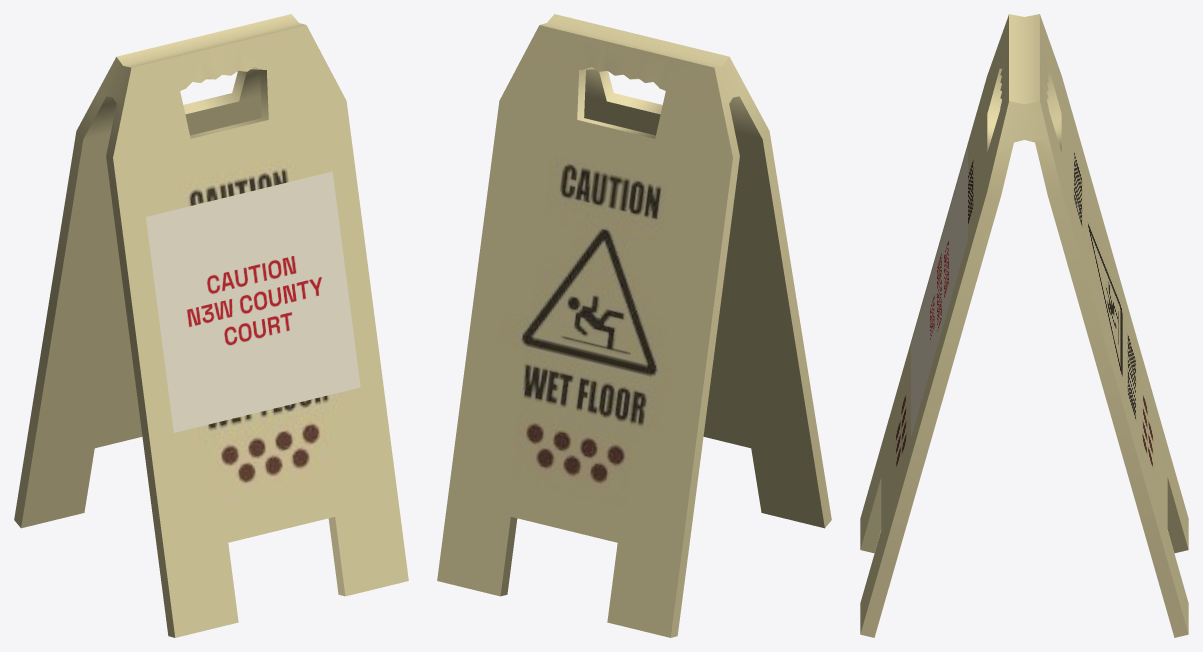
The model's file is nyb_angrymen_wetfloor.glb.
3 renders of one model, left to right at view 1: azimuth 30°, elevation 25°; view 2: azimuth 150°, elevation 25°; view 3: azimuth 270°, elevation 25°, orthographic.
Visible parts, largest first — view 1: WetFloorSign_01, stk_lbl_762fa31d37.png; view 2: WetFloorSign_01; view 3: WetFloorSign_01, stk_lbl_762fa31d37.png.
Boxes of the visible parts, <box> form: WetFloorSign_01: <box>14,14,408,637</box>; stk_lbl_762fa31d37.png: <box>146,171,360,432</box>; WetFloorSign_01: <box>437,14,831,637</box>; WetFloorSign_01: <box>860,14,1188,637</box>; stk_lbl_762fa31d37.png: <box>911,147,967,437</box>.
Size of the model in its own units: 0.3001 by 0.6295 by 0.3585.
Materials: 2 (2 with a texture image).
